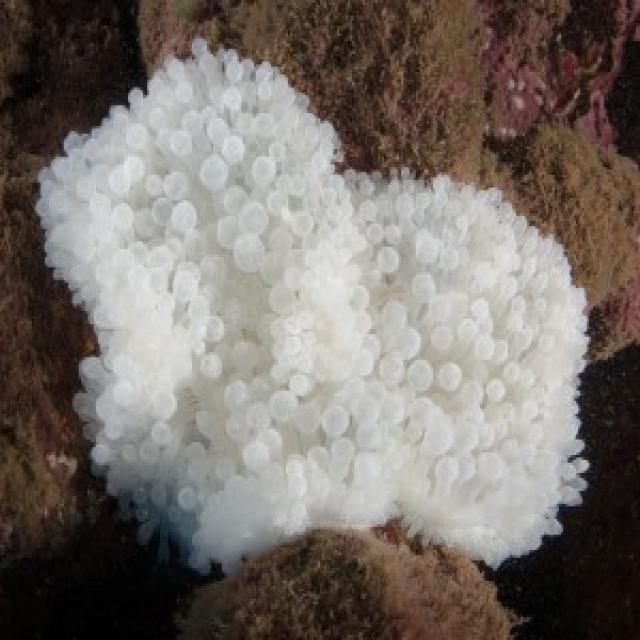Bleached: (35, 46, 589, 568)
Healthy: (345, 1, 640, 156), (176, 528, 547, 640), (7, 245, 54, 549)
